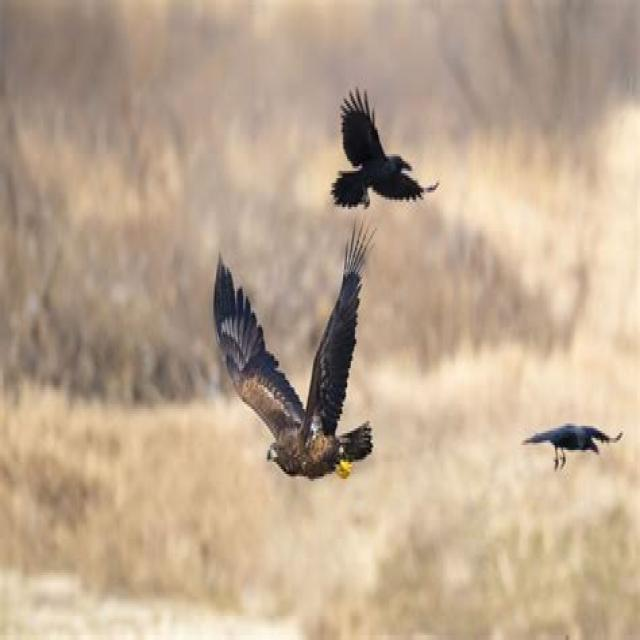crow: (333, 83, 433, 220), (526, 418, 628, 473)
